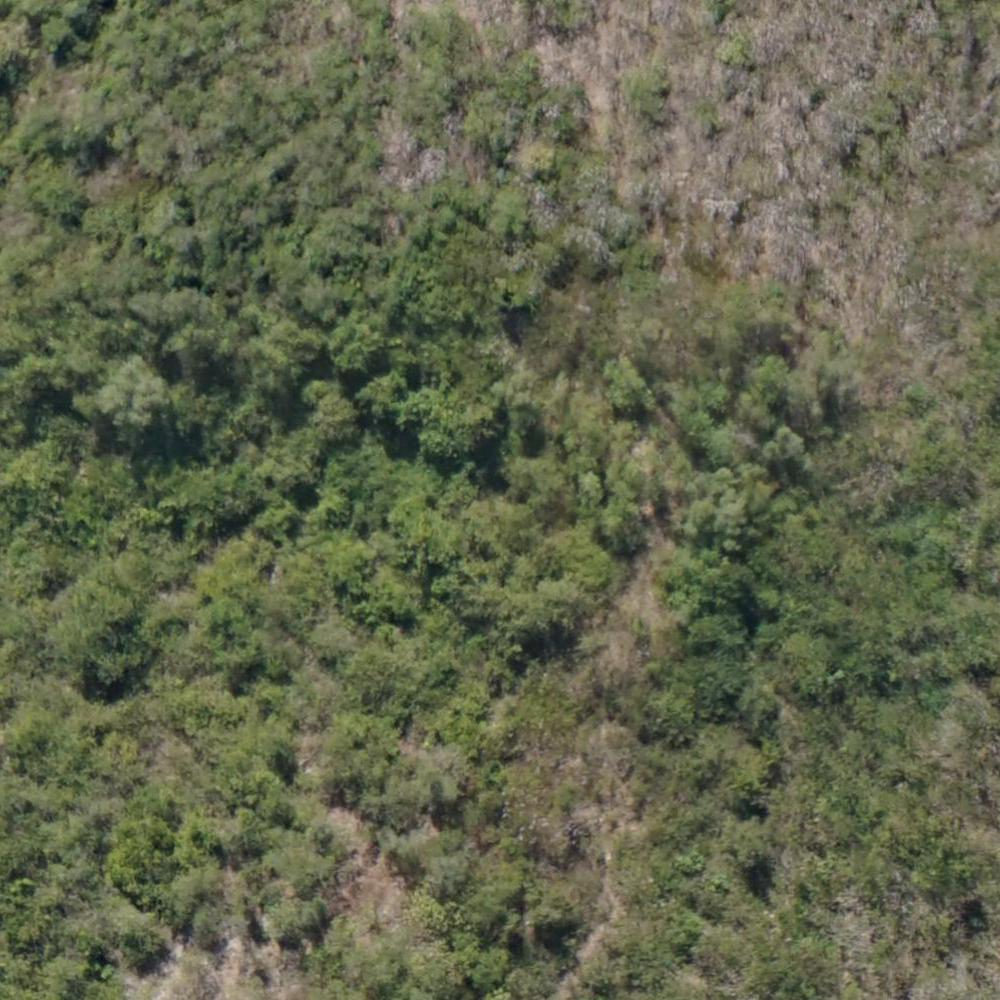tree: (93, 353, 162, 434), (691, 468, 759, 544), (327, 717, 389, 783), (499, 457, 562, 517), (162, 287, 216, 353), (423, 396, 480, 457), (256, 892, 324, 941), (27, 167, 85, 222), (238, 333, 294, 388), (309, 387, 363, 443), (329, 318, 378, 372), (359, 570, 412, 618), (202, 601, 254, 649), (610, 352, 653, 410), (262, 316, 318, 359), (727, 743, 771, 794), (646, 687, 690, 736), (564, 548, 610, 593), (253, 496, 296, 543), (753, 357, 798, 400), (608, 493, 648, 541), (531, 883, 577, 923), (490, 189, 530, 235), (728, 821, 763, 873), (428, 849, 466, 895), (67, 107, 105, 151), (773, 424, 807, 467), (521, 146, 562, 181), (134, 130, 170, 166)
